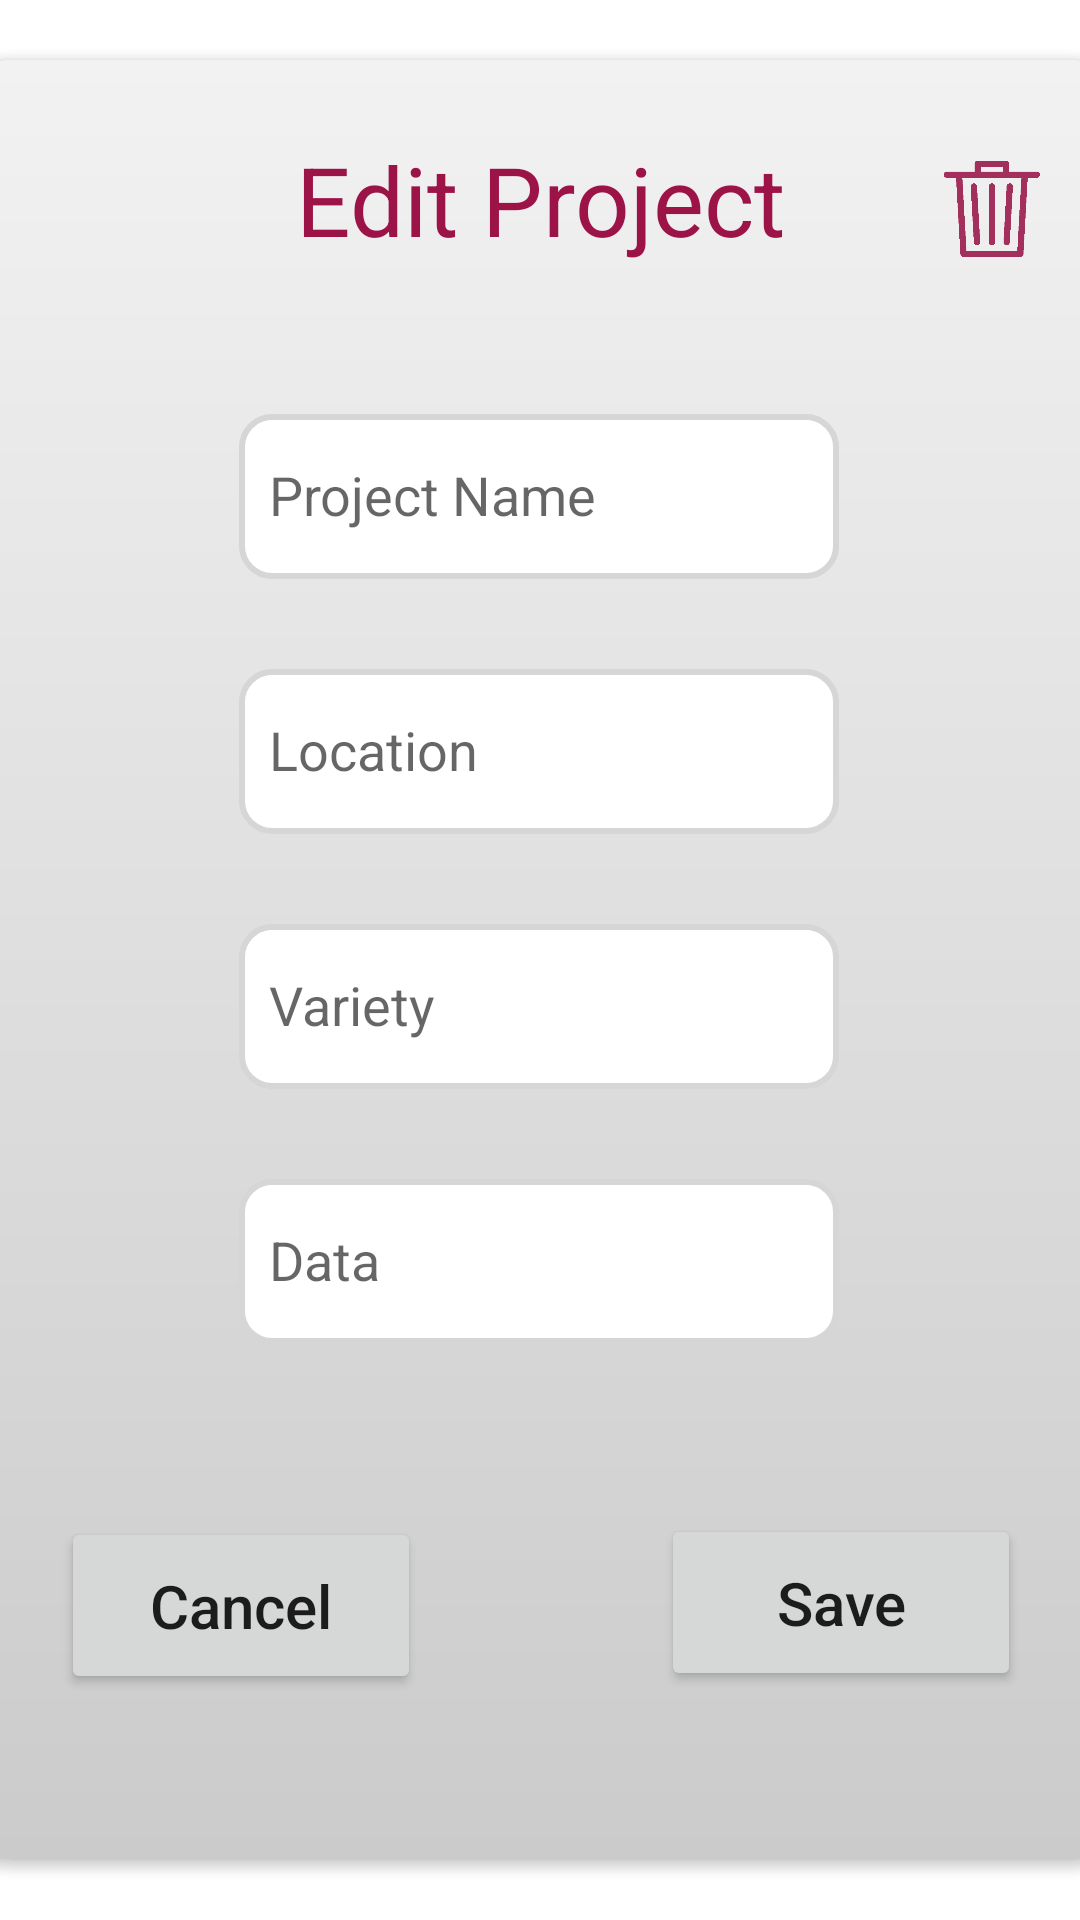

Icon click points for this 1080 × 1920 phone screenshot, format point (x, y):
trash: point (992, 209)
